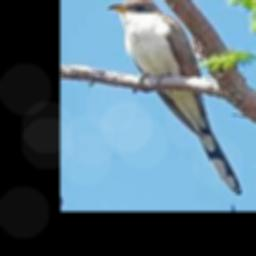Cuckoo: (109, 0, 242, 195)
